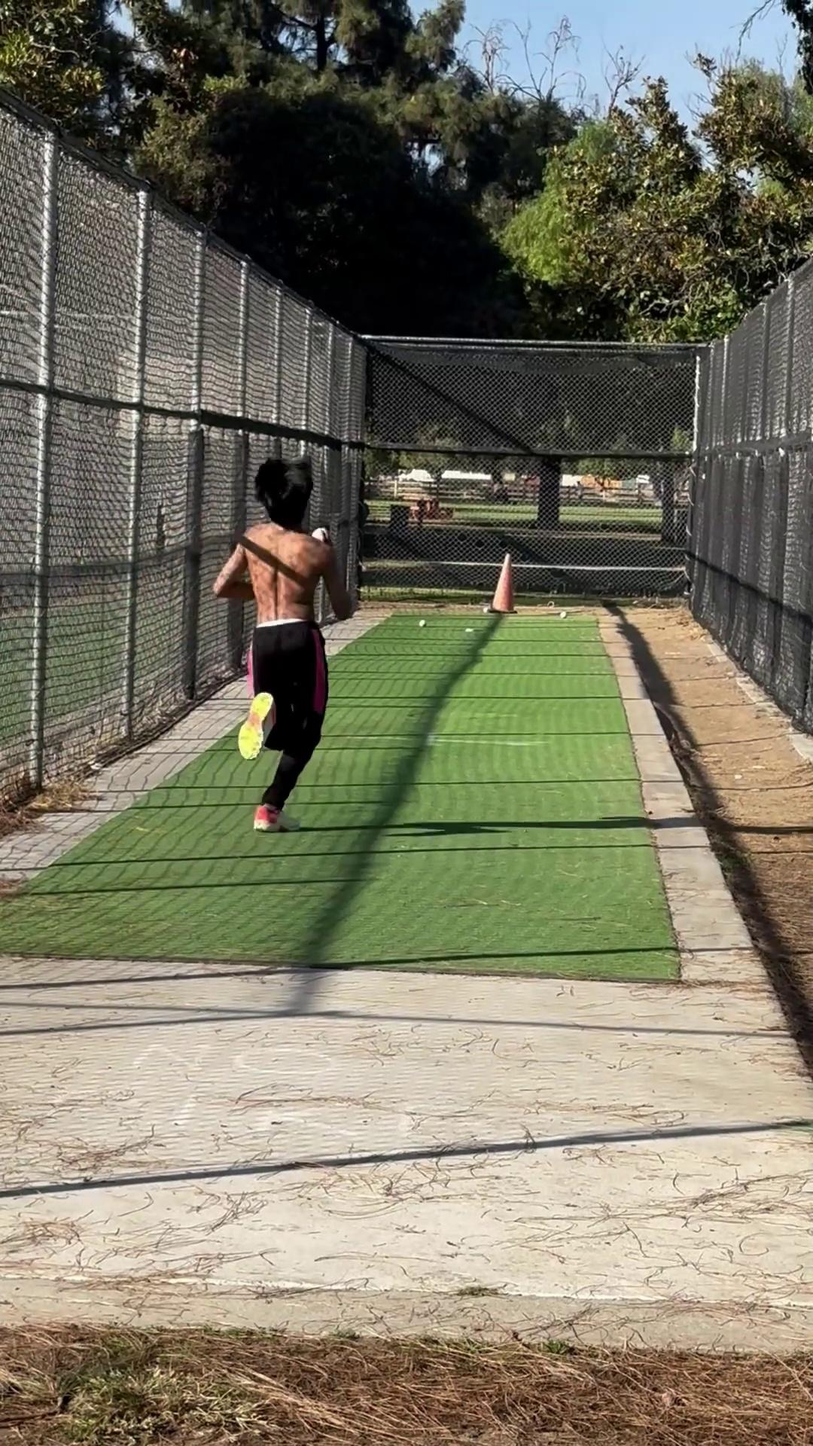ball: (306, 524, 332, 547)
